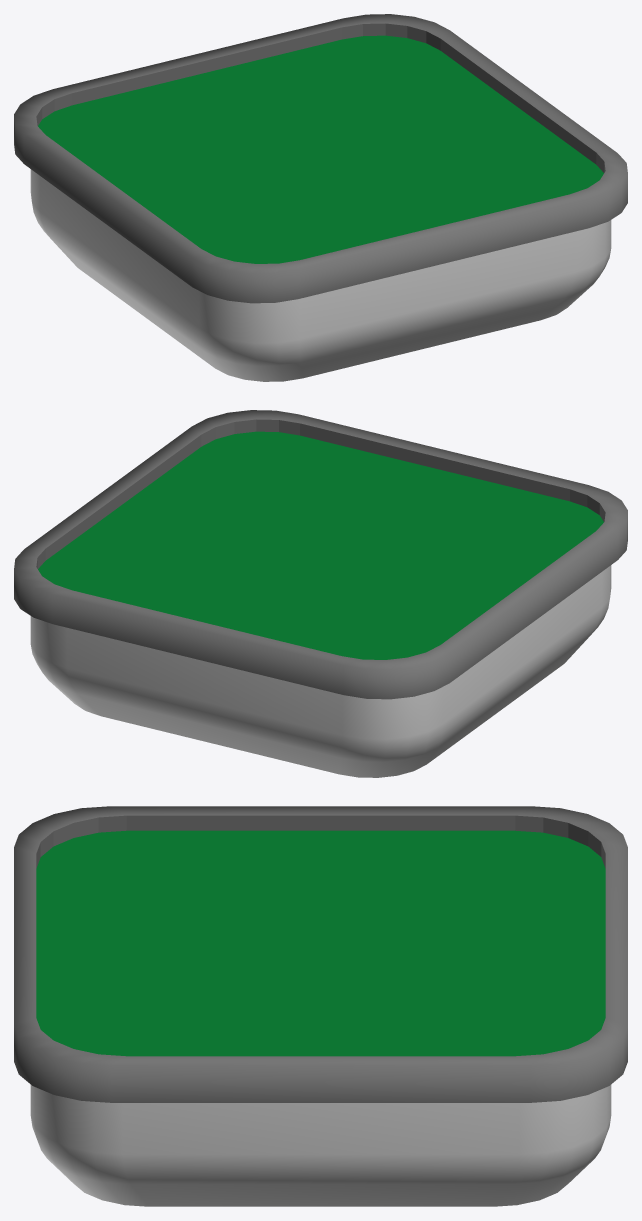
The model's file is Flowerbed.fbx.
3 renders of one model, top to bottom at view 1: azimuth 30°, elevation 25°; view 2: azimuth 150°, elevation 25°; view 3: azimuth 270°, elevation 25°, orthographic. The views are drawn at different scales.
Parts seen in each view (by area): view 1: Flowerbed-m-04; view 2: Flowerbed-m-04; view 3: Flowerbed-m-04.
Boxes of the visible parts, <box> form: Flowerbed-m-04: <box>14,14,627,381</box>; Flowerbed-m-04: <box>14,410,627,777</box>; Flowerbed-m-04: <box>14,806,627,1206</box>.
Bounding box in the file's own units: 1.14 × 0.3365 × 1.14.
